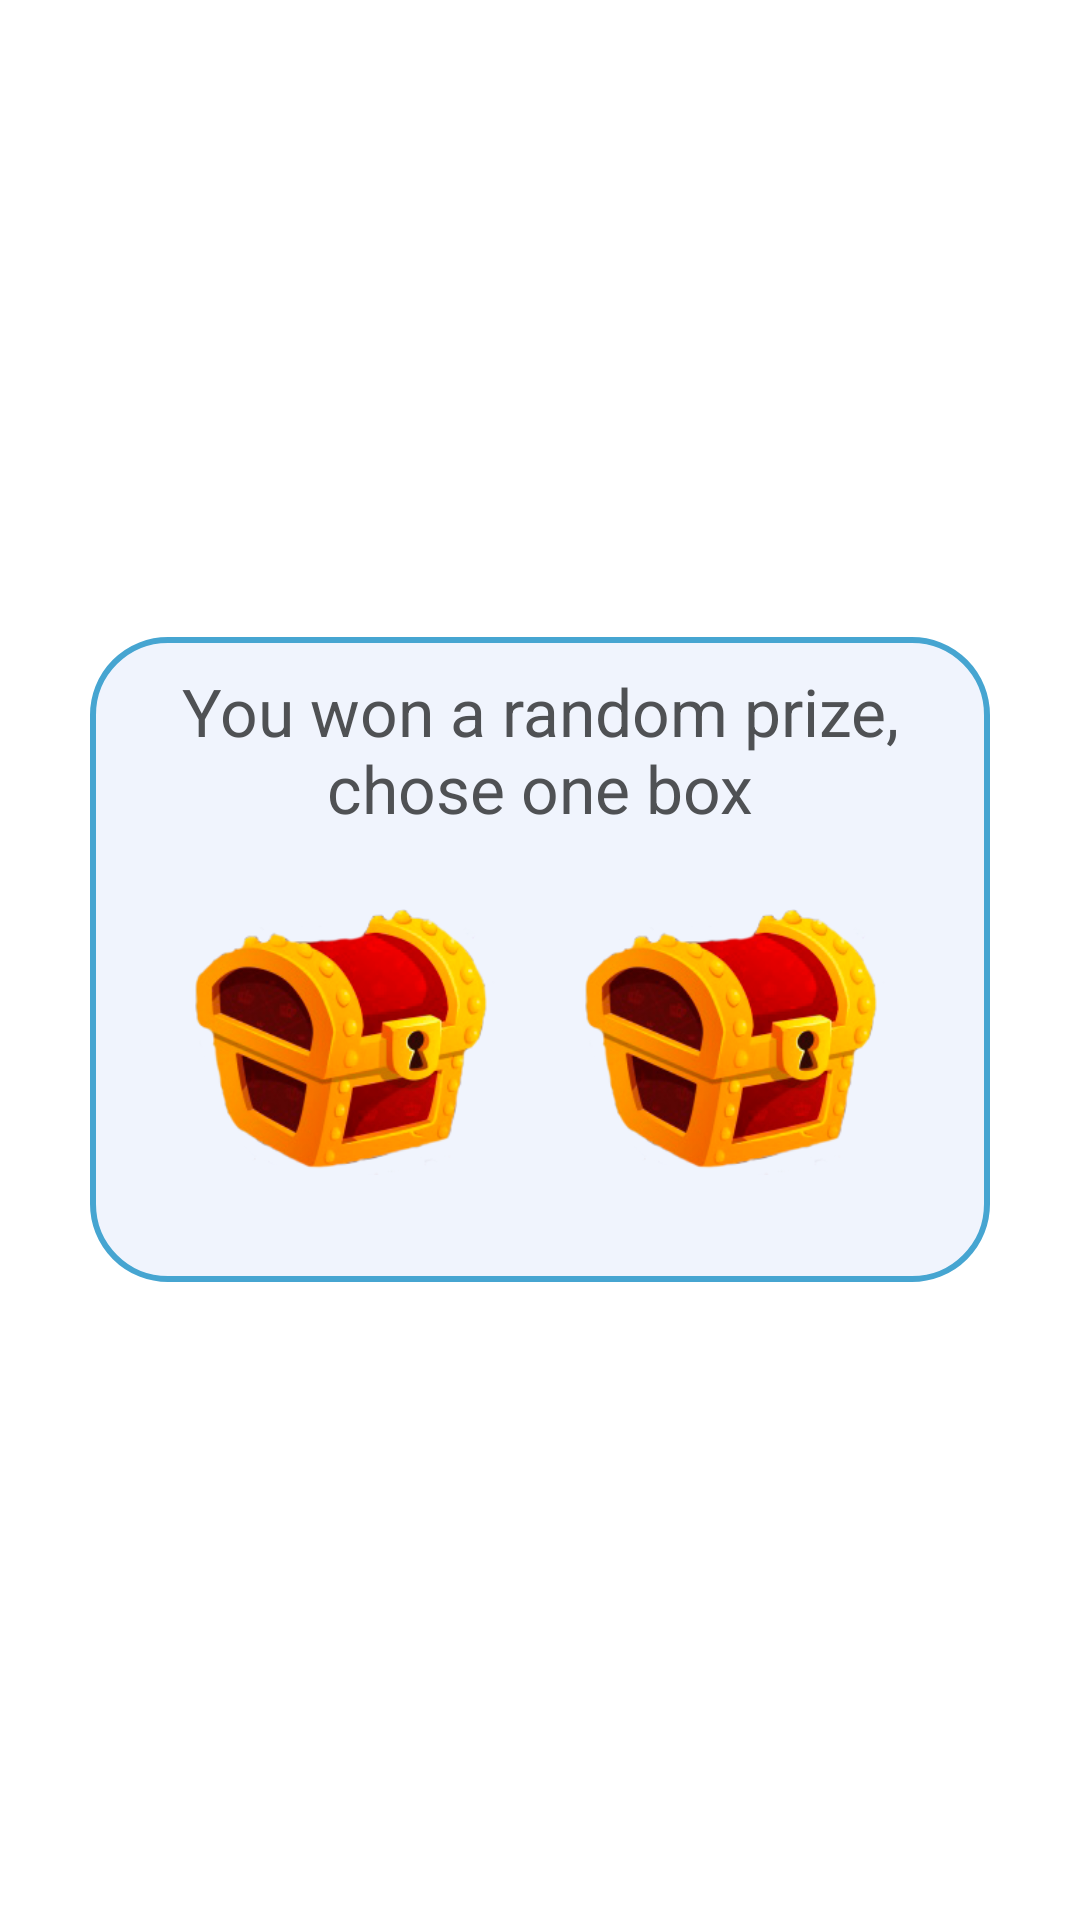

Icon bounding boxes for this 1080×1920 phone screenshot, format (x1, y1, x2, y2):
chest: (195, 910, 487, 1168), (585, 910, 877, 1168)
